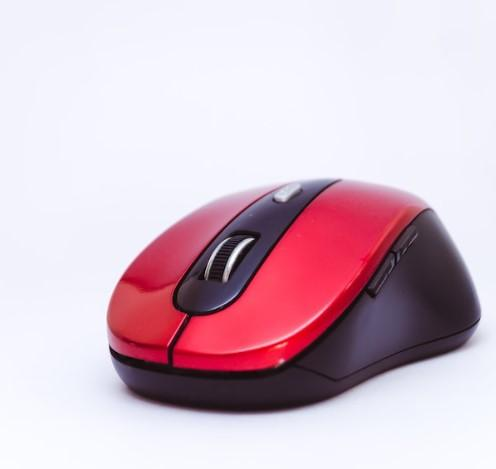computer mouse: (105, 176, 483, 416)
